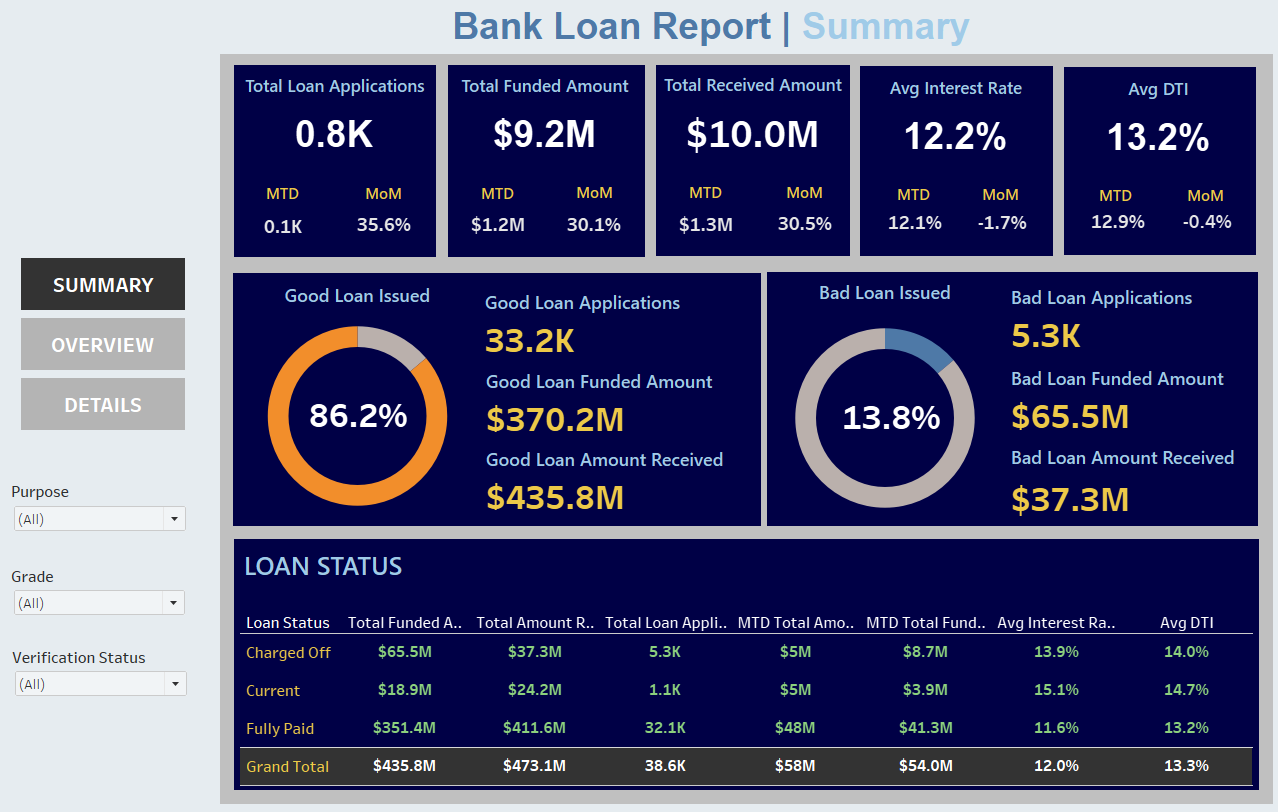

This screenshot's page, from the dashboard's own definition file:
{"tool":"tableau","page":{"name":"SUMMARY","canvas":[1600,900],"ordinal":2},"visuals":[{"type":"text","box":[451,7,541,47]},{"type":"worksheet","title":"Total Received Amount","mark":"Automatic","box":[661,73,188,88]},{"type":"worksheet","title":"Total Loan Applications","mark":"Automatic","box":[240,74,194,93]},{"type":"worksheet","title":"Total Funded Amount","mark":"Automatic","box":[453,74,188,93]},{"type":"worksheet","title":"Avg Interest Rate","mark":"Automatic","box":[865,76,186,92]},{"type":"worksheet","title":"Avg DTI","mark":"Automatic","box":[1082,77,157,93]},{"type":"text","box":[566,181,61,30]},{"type":"text","box":[677,181,61,30]},{"type":"text","box":[776,181,61,30]},{"type":"text","box":[254,182,61,30]},{"type":"text","box":[355,182,61,30]},{"type":"text","box":[469,182,61,30]},{"type":"text","box":[885,183,61,30]},{"type":"text","box":[972,183,61,30]},{"type":"text","box":[1087,184,61,30]},{"type":"text","box":[1177,184,61,30]},{"type":"worksheet","title":"MoM Total Amount Received","mark":"Automatic","box":[774,202,67,50]},{"type":"worksheet","title":"MTD Avg DTI","mark":"Automatic","box":[1088,202,64,46]},{"type":"worksheet","title":"MTD Avg Interest Rate","mark":"Automatic","box":[876,203,83,46]},{"type":"worksheet","title":"MTD Total Loan Applications","mark":"Automatic","box":[240,204,91,52]},{"type":"worksheet","title":"MTD Total Amount Received","mark":"Automatic","box":[670,205,78,46]},{"type":"worksheet","title":"MoM Avg DTI","mark":"Automatic","box":[1177,205,65,41]},{"type":"worksheet","title":"MoM Avg Interest Rate","mark":"Automatic","box":[974,206,62,41]},{"type":"worksheet","title":"MoM Total Loan Applications","mark":"Automatic","box":[351,207,71,42]},{"type":"worksheet","title":"MTD Total Funded Amount","mark":"Automatic","box":[462,209,77,39]},{"type":"worksheet","title":"MoM Total Funded Amount","mark":"Automatic","box":[562,210,69,36]},{"type":"dashboard-object","box":[23,262,164,52]},{"type":"worksheet","title":"Bad Loan Issued","mark":"Pie","rows":["Calculation_108086426536599553","Calculation_108086426536599553"],"box":[772,280,230,245]},{"type":"worksheet","title":"Bad Loan Applications","mark":"Automatic","box":[1005,281,250,76]},{"type":"worksheet","title":"Good Loan Issued","mark":"Pie","rows":["Calculation_108086426536599553","Calculation_108086426536599553"],"box":[244,283,231,235]},{"type":"worksheet","title":"Good Loan Applications","mark":"Automatic","box":[479,286,278,75]},{"type":"dashboard-object","box":[23,322,164,52]},{"type":"worksheet","title":"Bad Loan Funded Amount","mark":"Automatic","box":[1005,362,250,76]},{"type":"worksheet","title":"Good Loan Funded Amount","mark":"Automatic","box":[480,365,278,75]},{"type":"dashboard-object","box":[23,382,164,52]},{"type":"worksheet","title":"Good Loan Application %","mark":"Automatic","box":[306,382,109,72]},{"type":"worksheet","title":"Bad Loan Application %","mark":"Automatic","box":[827,398,121,53]},{"type":"worksheet","title":"Bad Loan Amount Received","mark":"Automatic","box":[1005,441,250,83]},{"type":"worksheet","title":"Good Loan Amount Received","mark":"Automatic","box":[480,443,278,75]},{"type":"filter","title":"Good Loan Issued","param":"[federated.19yf0wd0rd5e221dhp3870jd0gmx].[none:purpose:nk]","box":[13,485,178,59]},{"type":"worksheet","title":"LOAN STATUS","mark":"Automatic","rows":["loan_status"],"box":[242,548,1013,242]},{"type":"filter","title":"Good Loan Issued","param":"[federated.19yf0wd0rd5e221dhp3870jd0gmx].[none:grade:nk]","box":[13,570,177,52]},{"type":"filter","title":"Good Loan Issued","param":"[federated.19yf0wd0rd5e221dhp3870jd0gmx].[none:verification_status:nk]","box":[14,651,178,52]}]}

Visuals, with their boxes on the page's 1600x900 design canvas (x1, y1, x2, y2). These are canvas units, not pixel positions in the 1278x812 screenshot, which may show the page scaled, cropped or inside an application window:
text: (left=451, top=7, right=992, bottom=54)
"Total Received Amount" worksheet: (left=661, top=73, right=849, bottom=161)
"Total Loan Applications" worksheet: (left=240, top=74, right=434, bottom=167)
"Total Funded Amount" worksheet: (left=453, top=74, right=641, bottom=167)
"Avg Interest Rate" worksheet: (left=865, top=76, right=1051, bottom=168)
"Avg DTI" worksheet: (left=1082, top=77, right=1239, bottom=170)
text: (left=566, top=181, right=627, bottom=211)
text: (left=677, top=181, right=738, bottom=211)
text: (left=776, top=181, right=837, bottom=211)
text: (left=254, top=182, right=315, bottom=212)
text: (left=355, top=182, right=416, bottom=212)
text: (left=469, top=182, right=530, bottom=212)
text: (left=885, top=183, right=946, bottom=213)
text: (left=972, top=183, right=1033, bottom=213)
text: (left=1087, top=184, right=1148, bottom=214)
text: (left=1177, top=184, right=1238, bottom=214)
"MoM Total Amount Received" worksheet: (left=774, top=202, right=841, bottom=252)
"MTD Avg DTI" worksheet: (left=1088, top=202, right=1152, bottom=248)
"MTD Avg Interest Rate" worksheet: (left=876, top=203, right=959, bottom=249)
"MTD Total Loan Applications" worksheet: (left=240, top=204, right=331, bottom=256)
"MTD Total Amount Received" worksheet: (left=670, top=205, right=748, bottom=251)
"MoM Avg DTI" worksheet: (left=1177, top=205, right=1242, bottom=246)
"MoM Avg Interest Rate" worksheet: (left=974, top=206, right=1036, bottom=247)
"MoM Total Loan Applications" worksheet: (left=351, top=207, right=422, bottom=249)
"MTD Total Funded Amount" worksheet: (left=462, top=209, right=539, bottom=248)
"MoM Total Funded Amount" worksheet: (left=562, top=210, right=631, bottom=246)
dashboard-object: (left=23, top=262, right=187, bottom=314)
"Bad Loan Issued" worksheet (Pie marks): (left=772, top=280, right=1002, bottom=525)
"Bad Loan Applications" worksheet: (left=1005, top=281, right=1255, bottom=357)
"Good Loan Issued" worksheet (Pie marks): (left=244, top=283, right=475, bottom=518)
"Good Loan Applications" worksheet: (left=479, top=286, right=757, bottom=361)
dashboard-object: (left=23, top=322, right=187, bottom=374)
"Bad Loan Funded Amount" worksheet: (left=1005, top=362, right=1255, bottom=438)
"Good Loan Funded Amount" worksheet: (left=480, top=365, right=758, bottom=440)
dashboard-object: (left=23, top=382, right=187, bottom=434)
"Good Loan Application %" worksheet: (left=306, top=382, right=415, bottom=454)
"Bad Loan Application %" worksheet: (left=827, top=398, right=948, bottom=451)
"Bad Loan Amount Received" worksheet: (left=1005, top=441, right=1255, bottom=524)
"Good Loan Amount Received" worksheet: (left=480, top=443, right=758, bottom=518)
"Good Loan Issued" filter: (left=13, top=485, right=191, bottom=544)
"LOAN STATUS" worksheet: (left=242, top=548, right=1255, bottom=790)
"Good Loan Issued" filter: (left=13, top=570, right=190, bottom=622)
"Good Loan Issued" filter: (left=14, top=651, right=192, bottom=703)
